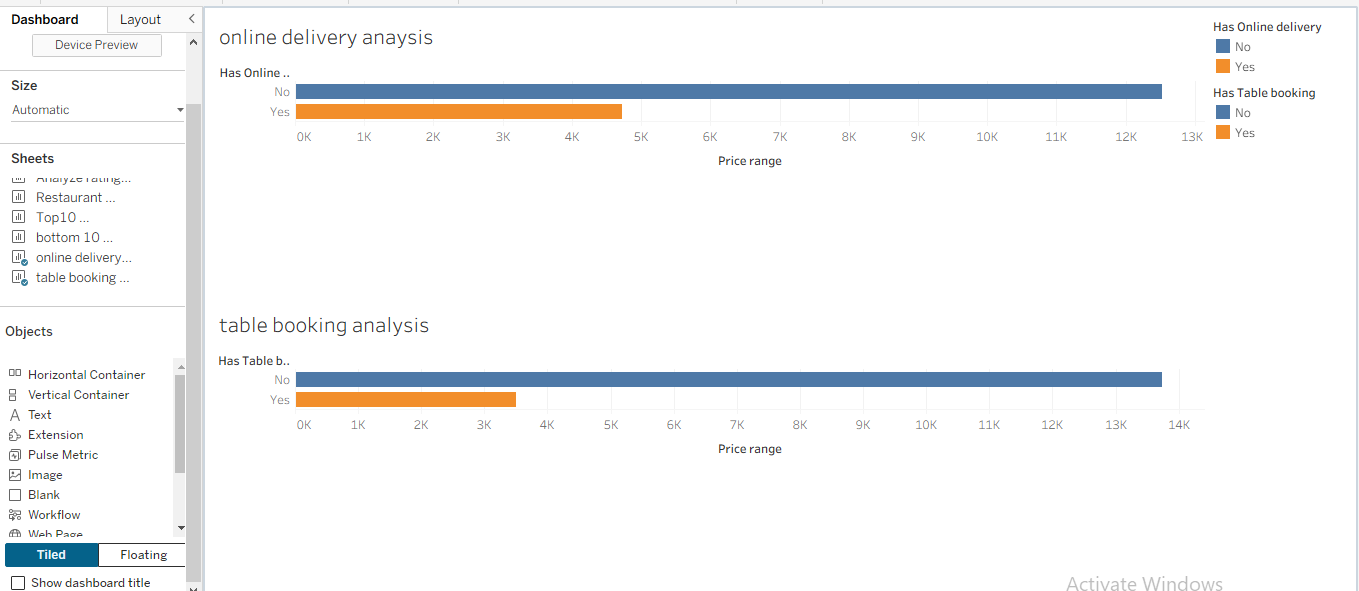

What the dashboard file says about the page in this screenshot:
{"tool":"tableau","page":{"name":"Dashboard 2","canvas":[1000,1000],"units":"permille","ordinal":0},"visuals":[{"type":"worksheet","title":"online delivery anaysis","mark":"Bar","rows":["Has Online delivery"],"cols":["Price range"],"box":[6.9,13.5,864.1,486.5]},{"type":"legend","title":"online delivery anaysis","param":"[federated.1118cfv15g8c3713pg4821kznx8o].[none:Has Online delivery:nk]","box":[871,13.5,122.1,111.5]},{"type":"legend","title":"table booking analysis","param":"[federated.1118cfv15g8c3713pg4821kznx8o].[none:Has Table booking:nk]","box":[871,125,122.1,111.5]},{"type":"worksheet","title":"table booking analysis","mark":"Bar","rows":["Has Table booking"],"cols":["Price range"],"box":[6.9,500,864.1,486.5]}]}

Visuals, with their boxes on the dashboard's canvas, which has no fixed pixel size, in thousandths of its width and height (x1, y1, x2, y2). These are canvas units, not pixel positions in the 1359x591 screenshot, which may show the page scaled, cropped or inside an application window:
"online delivery anaysis" worksheet (Bar marks): <bbox>7, 14, 871, 500</bbox>
"online delivery anaysis" legend: <bbox>871, 14, 993, 125</bbox>
"table booking analysis" legend: <bbox>871, 125, 993, 236</bbox>
"table booking analysis" worksheet (Bar marks): <bbox>7, 500, 871, 986</bbox>
